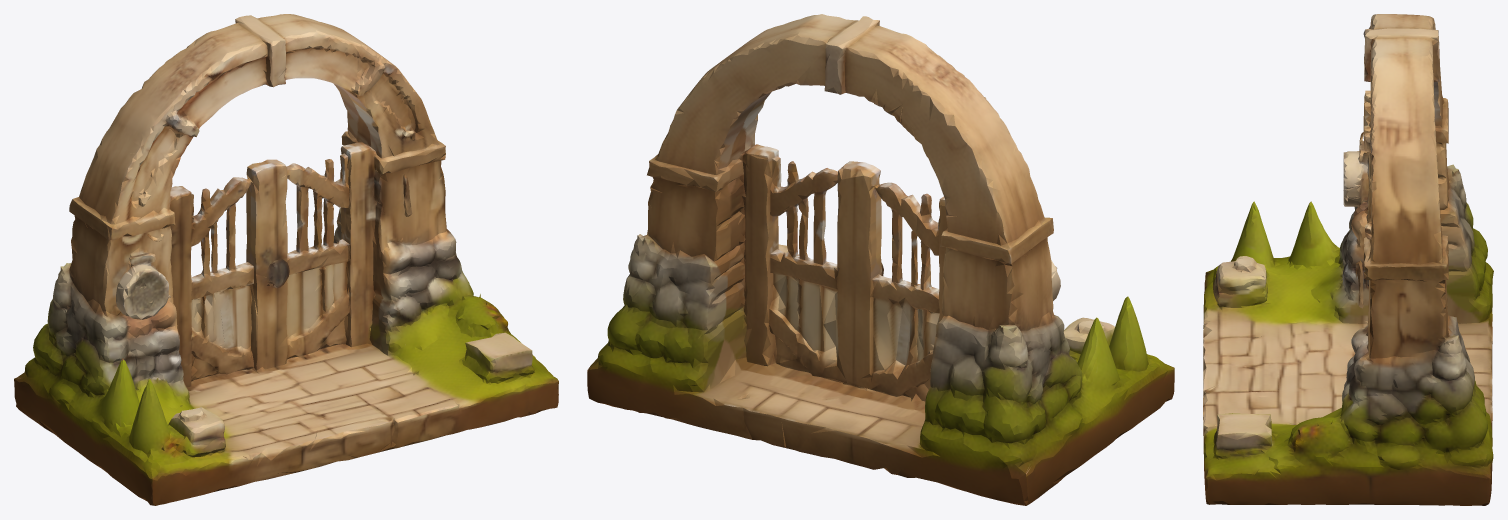
3 views of the same model, side by side, from view 1: azimuth 30°, elevation 25°; view 2: azimuth 150°, elevation 25°; view 3: azimuth 270°, elevation 25° (orthographic). The views are drawn at different scales.
Parts seen in each view (by area): view 1: 036; view 2: 036; view 3: 036.
Part boxes in pixels (x1,y1,x2,y2): 036: (14, 14, 558, 505); 036: (587, 14, 1174, 505); 036: (1203, 14, 1493, 505).
Bounding box in the file's own units: 1.87 × 1.57 × 1.11.
1 material, 1 textured.
